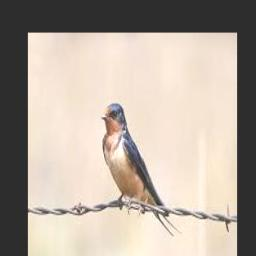Swallow: (101, 104, 182, 235)
